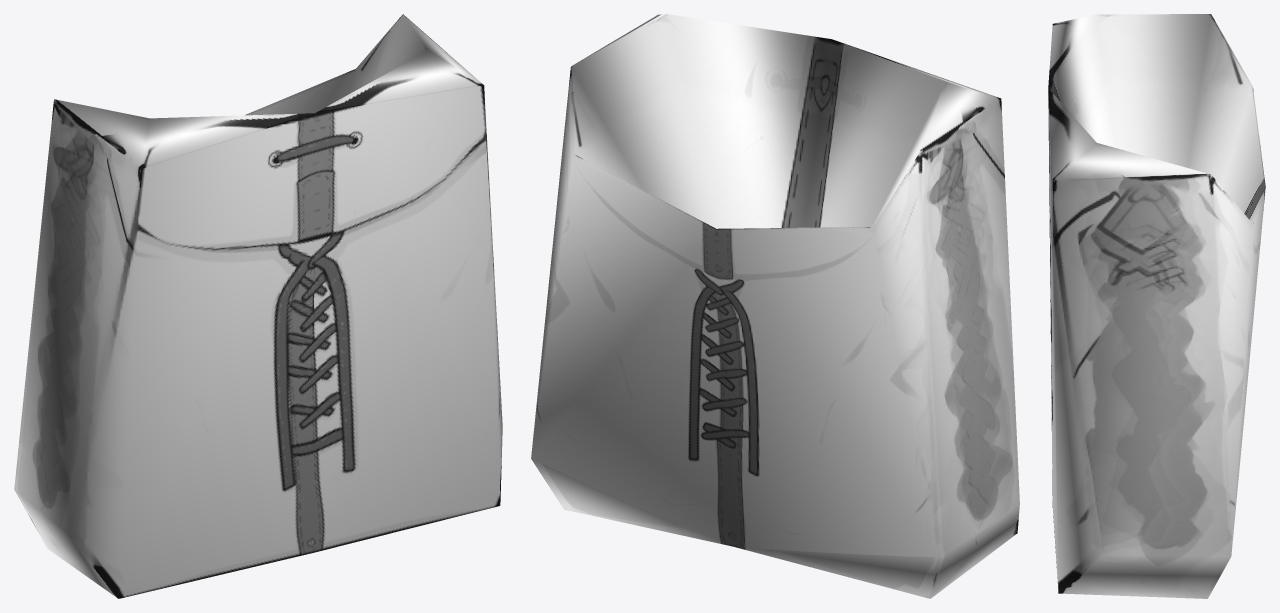
Rendered from CE_TribalBackpack.glb.
3 renders of one model, left to right at view 1: azimuth 30°, elevation 25°; view 2: azimuth 150°, elevation 25°; view 3: azimuth 270°, elevation 25°, orthographic. The views are drawn at different scales.
Parts seen in each view (by area): view 1: CE_TribalBackpack; view 2: CE_TribalBackpack; view 3: CE_TribalBackpack.
Part boxes in pixels (<box>): CE_TribalBackpack: <box>14,14,502,598</box>; CE_TribalBackpack: <box>531,14,1019,598</box>; CE_TribalBackpack: <box>1048,14,1265,598</box>.
Size of the model in its own units: 4.3 by 4.47 by 1.97.
Materials: 1 (1 with a texture image).
